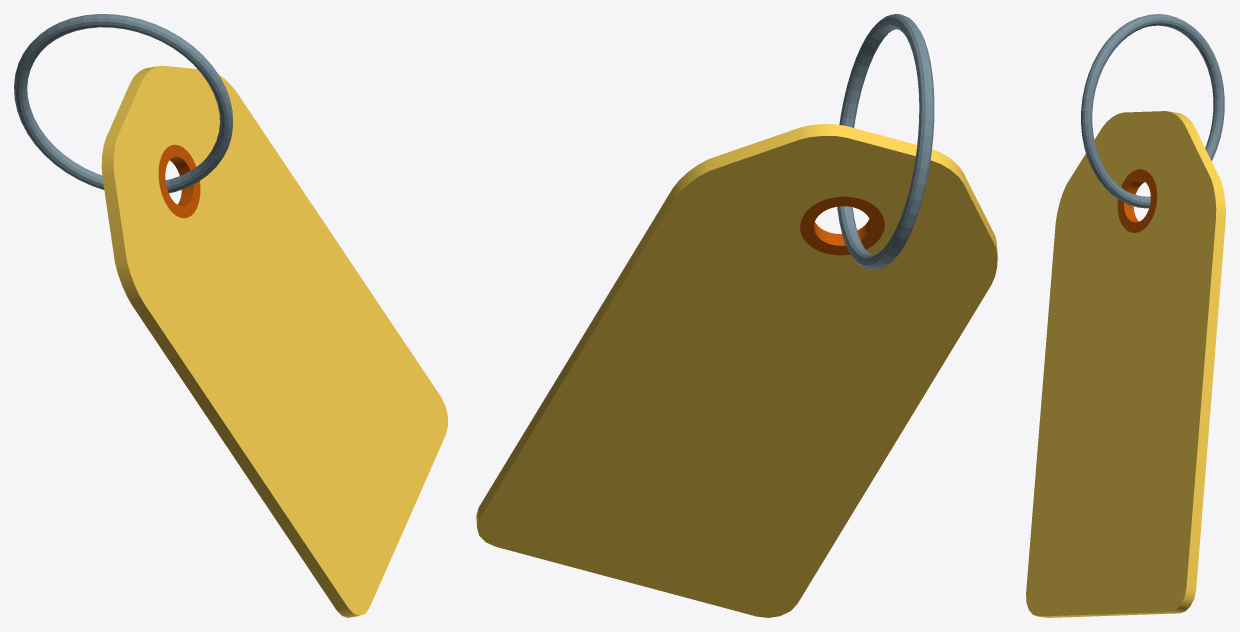
File: label.glb
The picture shows the model from 3 angles, left to right: view 1: azimuth 30°, elevation 25°; view 2: azimuth 150°, elevation 25°; view 3: azimuth 270°, elevation 25°; orthographic projection. The views are drawn at different scales.
Visible parts, largest first — view 1: Circle.2560; view 2: Circle.2560; view 3: Circle.2560.
Part boxes in pixels (<box>): Circle.2560: <box>14,14,447,617</box>; Circle.2560: <box>476,14,997,617</box>; Circle.2560: <box>1026,14,1225,617</box>.
Size of the model in its own units: 1.66 by 2.32 by 0.8068.
Materials: 1 (1 with a texture image).
